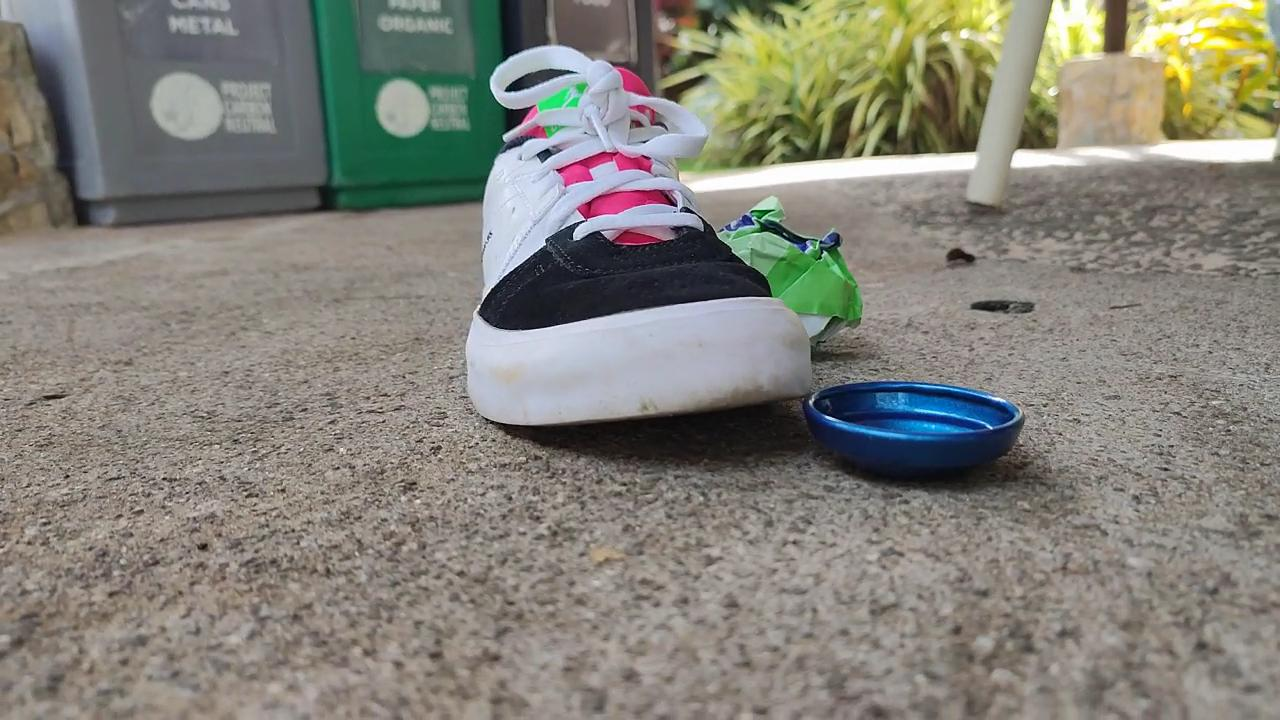Paper: (711, 168, 868, 363)
